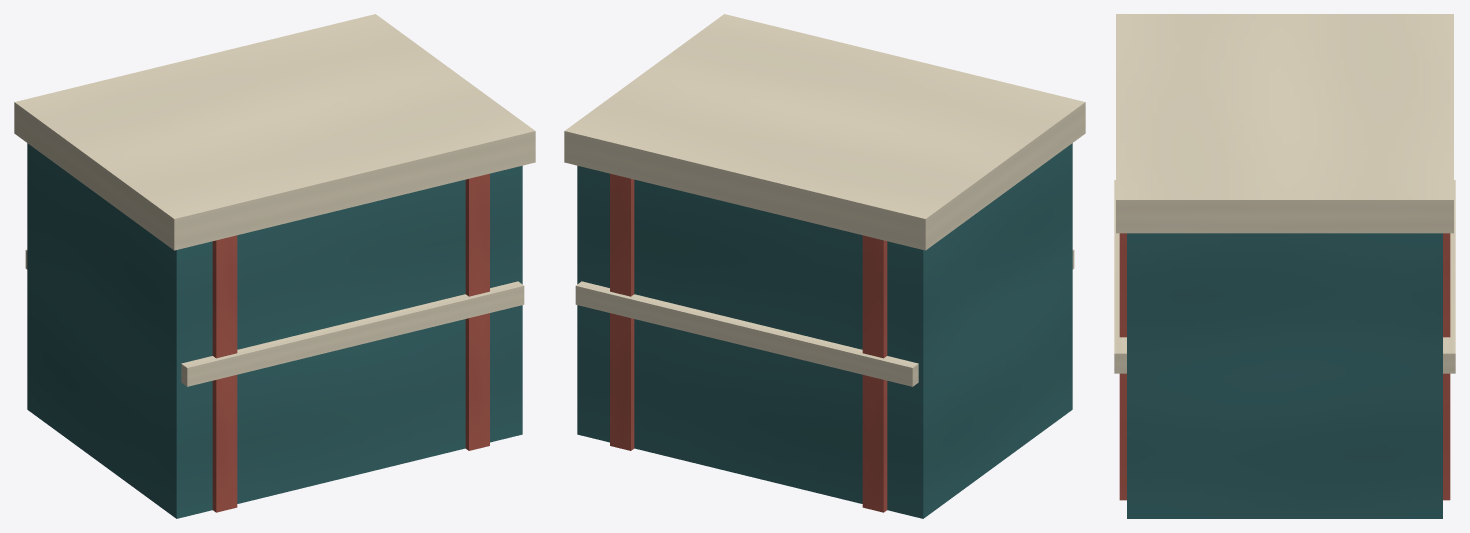
Rendered from atlas100-porcelain-util02.lod1.glb.
3 views of the same model, side by side, from view 1: azimuth 30°, elevation 25°; view 2: azimuth 150°, elevation 25°; view 3: azimuth 270°, elevation 25° (orthographic). The views are drawn at different scales.
Parts seen in each view (by area): view 1: atlas100-porcelain-util02:part-000, atlas100-porcelain-util02:part-005, atlas100-porcelain-util02:part-004, atlas100-porcelain-util02:part-001, atlas100-porcelain-util02:part-002; view 2: atlas100-porcelain-util02:part-000, atlas100-porcelain-util02:part-005, atlas100-porcelain-util02:part-003, atlas100-porcelain-util02:part-001, atlas100-porcelain-util02:part-002; view 3: atlas100-porcelain-util02:part-000, atlas100-porcelain-util02:part-005, atlas100-porcelain-util02:part-002, atlas100-porcelain-util02:part-003, atlas100-porcelain-util02:part-004.
Boxes of the visible parts, x1,y1,x2,y2 form: atlas100-porcelain-util02:part-000: [27, 143, 522, 518]; atlas100-porcelain-util02:part-005: [14, 14, 535, 250]; atlas100-porcelain-util02:part-004: [181, 281, 524, 386]; atlas100-porcelain-util02:part-001: [212, 235, 237, 512]; atlas100-porcelain-util02:part-002: [465, 173, 489, 450]; atlas100-porcelain-util02:part-000: [577, 143, 1072, 518]; atlas100-porcelain-util02:part-005: [564, 14, 1085, 250]; atlas100-porcelain-util02:part-003: [575, 281, 918, 386]; atlas100-porcelain-util02:part-001: [862, 235, 887, 512]; atlas100-porcelain-util02:part-002: [610, 173, 634, 450]; atlas100-porcelain-util02:part-000: [1127, 233, 1442, 518]; atlas100-porcelain-util02:part-005: [1116, 14, 1453, 233]; atlas100-porcelain-util02:part-002: [1119, 233, 1450, 500]; atlas100-porcelain-util02:part-003: [1443, 180, 1455, 373]; atlas100-porcelain-util02:part-004: [1114, 180, 1126, 373].
Bounding box in the file's own units: 1.37 × 1.1 × 1.06.
Materials: 3 (3 with a texture image).
